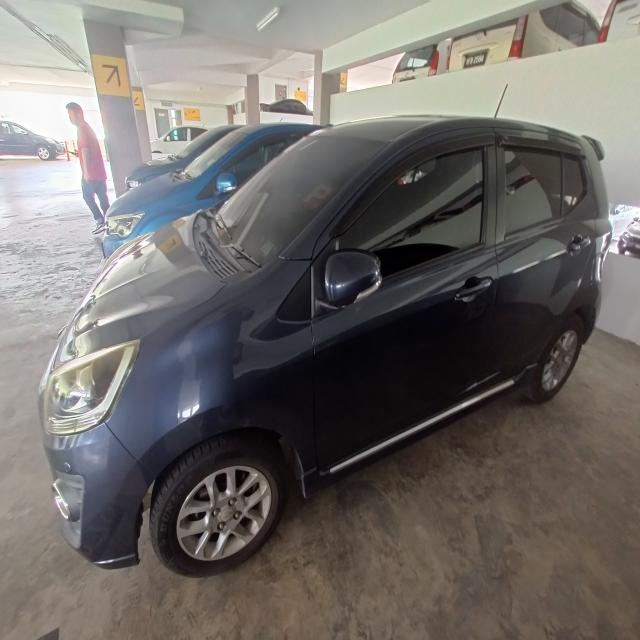PeroduaAxia: (37, 112, 614, 578)
